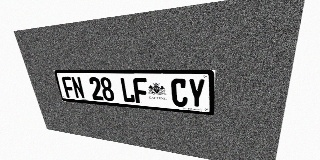2: (88, 77, 104, 100)
8: (99, 77, 115, 101)
C: (171, 78, 188, 107)
F: (132, 78, 149, 104), (61, 76, 76, 98)
L: (119, 77, 135, 103)
N: (70, 77, 85, 99)
Y: (188, 79, 205, 109)
